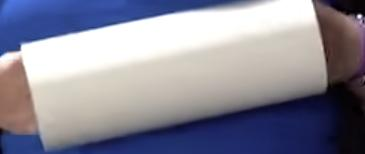coral: (20, 0, 328, 151)
